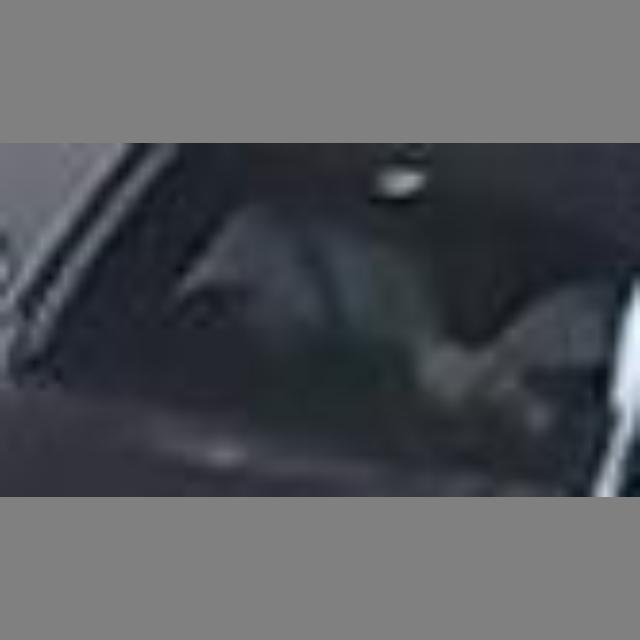pakai: (208, 197, 424, 374)
